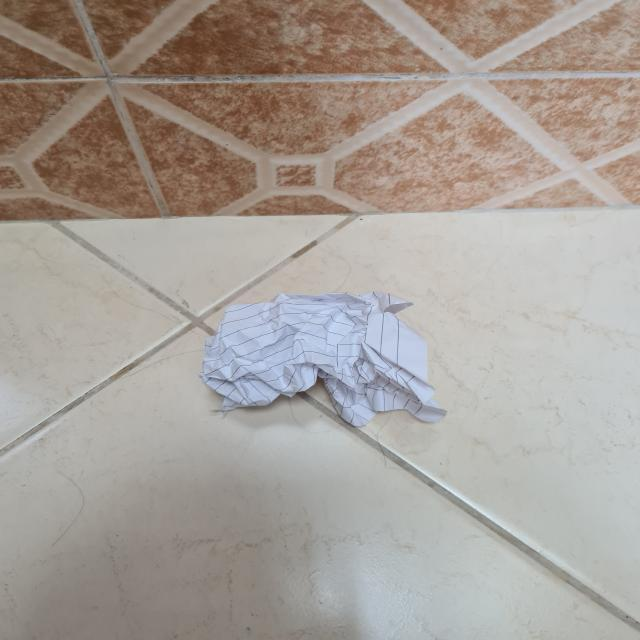Paper: (205, 280, 446, 426)
